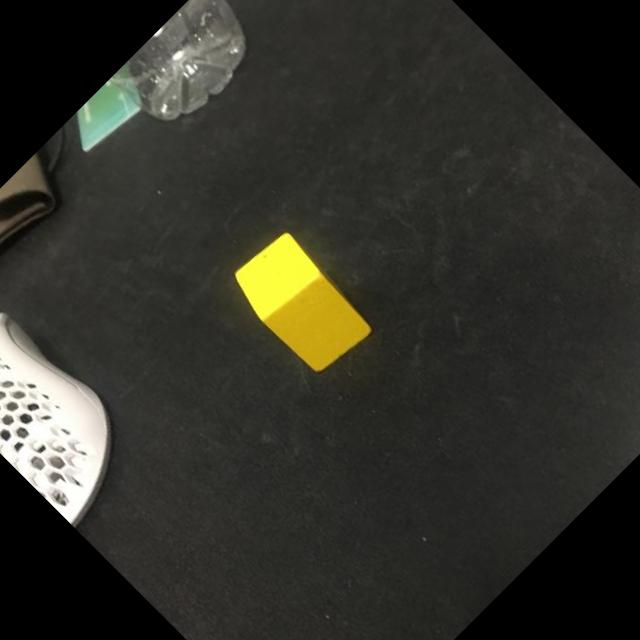yellow: (224, 224, 380, 380)
